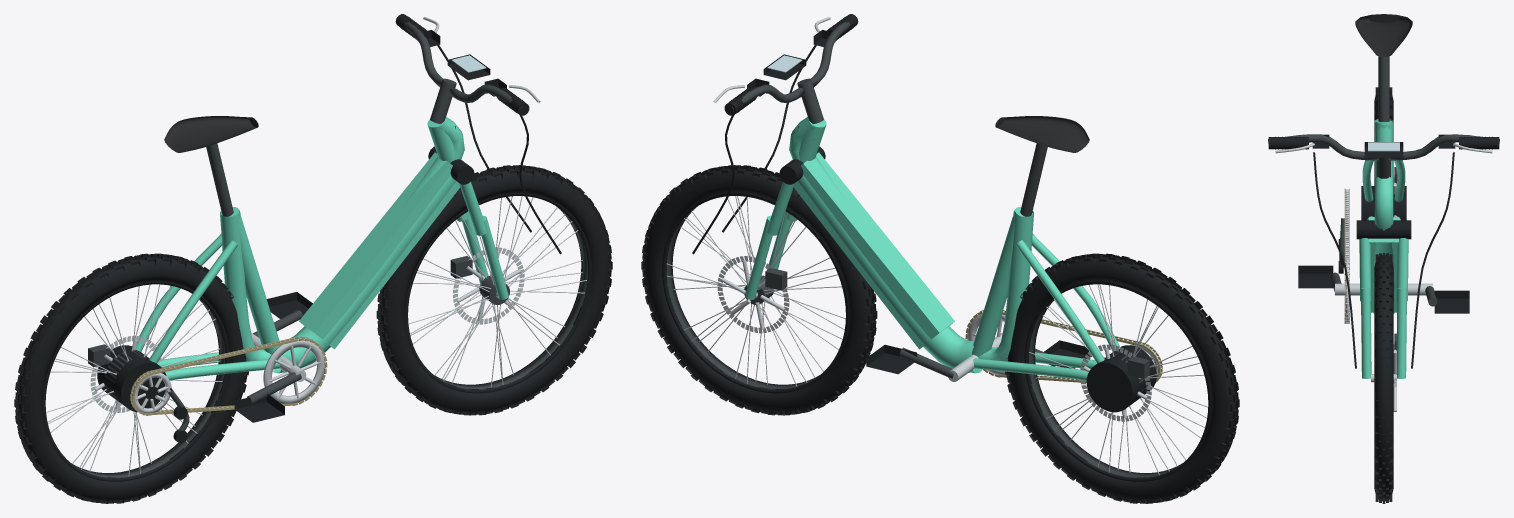
The model's file is aventon-pace-500.glb.
The picture shows the model from 3 angles, left to right: view 1: azimuth 30°, elevation 25°; view 2: azimuth 150°, elevation 25°; view 3: azimuth 270°, elevation 25°; orthographic projection. The views are drawn at different scales.
Visible parts, largest first — view 1: RearWheel | rubber, FrontWheel | rubber, BatteryMount | mint, Chassis | mint, FrontWheel | steel, RearWheel | steel, Drive | steel, FrontWheel | black, RearWheel | black, FrontWheel | graphite, MotorMount | black, Bodywork | seat (+9 smaller); view 2: RearWheel | rubber, FrontWheel | rubber, BatteryMount | mint, Chassis | mint, FrontWheel | steel, RearWheel | steel, FrontWheel | black, MotorMount | black, RearWheel | black, Bodywork | seat, FrontWheel | graphite, Fork | mint (+8 smaller); view 3: FrontWheel | rubber, Fork | mint, Chassis | mint, Cockpit | rubber, Drive | black, Bodywork | seat, Cockpit | graphite, BatteryMount | mint, Drive | steel, Fork | black, Cockpit | black, Chassis | graphite (+7 smaller).
Part boxes in pixels (x1=…): RearWheel | rubber: x1=14, y1=253, x2=248, y2=503; FrontWheel | rubber: x1=376, y1=165, x2=612, y2=415; BatteryMount | mint: x1=273, y1=152, x2=460, y2=373; Chassis | mint: x1=136, y1=116, x2=464, y2=380; FrontWheel | steel: x1=408, y1=196, x2=586, y2=387; RearWheel | steel: x1=46, y1=284, x2=222, y2=476; Drive | steel: x1=131, y1=333, x2=325, y2=413; FrontWheel | black: x1=405, y1=193, x2=591, y2=393; RearWheel | black: x1=43, y1=281, x2=229, y2=481; FrontWheel | graphite: x1=435, y1=208, x2=587, y2=389; MotorMount | black: x1=97, y1=345, x2=166, y2=412; Bodywork | seat: x1=164, y1=116, x2=258, y2=152; RearWheel | rubber: x1=1005, y1=253, x2=1239, y2=503; FrontWheel | rubber: x1=641, y1=165, x2=877, y2=415; BatteryMount | mint: x1=793, y1=152, x2=982, y2=373; Chassis | mint: x1=789, y1=116, x2=1120, y2=380; FrontWheel | steel: x1=666, y1=196, x2=845, y2=386; RearWheel | steel: x1=1029, y1=284, x2=1207, y2=474; FrontWheel | black: x1=662, y1=193, x2=848, y2=393; MotorMount | black: x1=1086, y1=345, x2=1156, y2=412; RearWheel | black: x1=1024, y1=281, x2=1210, y2=481; Bodywork | seat: x1=995, y1=116, x2=1089, y2=152; FrontWheel | graphite: x1=666, y1=207, x2=819, y2=389; Fork | mint: x1=745, y1=182, x2=796, y2=299; FrontWheel | rubber: x1=1374, y1=253, x2=1393, y2=503; Fork | mint: x1=1359, y1=238, x2=1408, y2=378; Chassis | mint: x1=1362, y1=119, x2=1405, y2=230; Cockpit | rubber: x1=1268, y1=137, x2=1499, y2=368; Drive | black: x1=1298, y1=239, x2=1469, y2=313; Bodywork | seat: x1=1355, y1=14, x2=1412, y2=57; Cockpit | graphite: x1=1268, y1=134, x2=1499, y2=178; BatteryMount | mint: x1=1369, y1=217, x2=1398, y2=313; Drive | steel: x1=1335, y1=189, x2=1432, y2=323; Fork | black: x1=1356, y1=220, x2=1411, y2=239; Cockpit | black: x1=1275, y1=134, x2=1492, y2=157; Chassis | graphite: x1=1378, y1=56, x2=1389, y2=121.
Bounding box in the file's own units: 1.85 × 1.07 × 0.6634.
